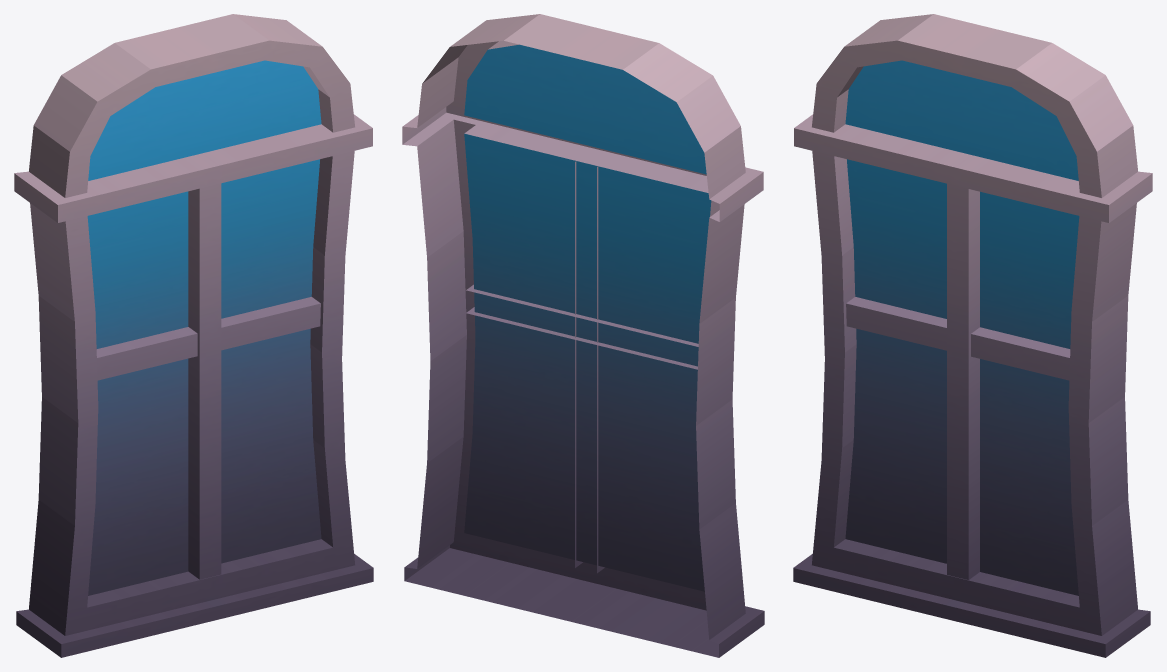
File: Window 2.fbx
3 views of the same model, side by side, from view 1: azimuth 30°, elevation 25°; view 2: azimuth 150°, elevation 25°; view 3: azimuth 330°, elevation 25° (orthographic).
Visible parts, largest first — view 1: Window 2; view 2: Window 2; view 3: Window 2.
Part boxes in pixels (x1,y1,x2,y2): Window 2: (14,14,373,657); Window 2: (402,14,764,657); Window 2: (793,14,1152,657).
Bounding box in the file's own units: 74.15 × 126 × 18.65.
